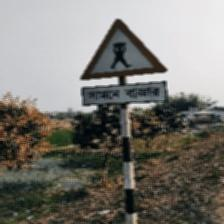Market-in-front: (79, 18, 169, 108)
